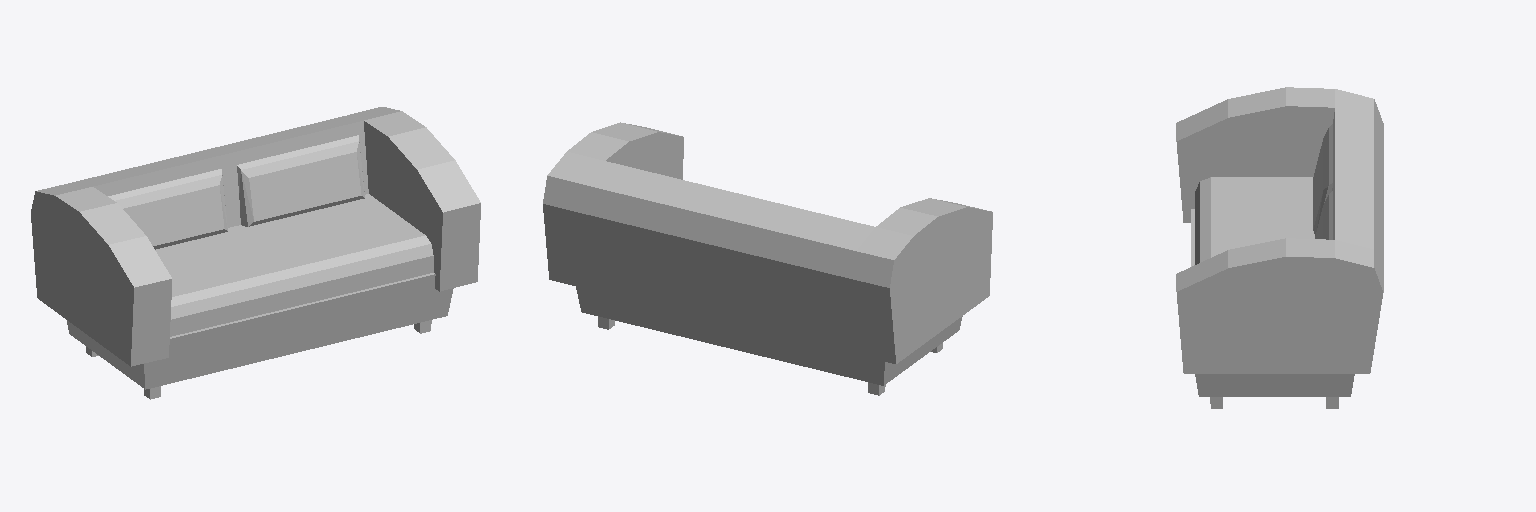
The model's file is Sofa_3.obj.
3 views of the same model, side by side, from view 1: azimuth 30°, elevation 25°; view 2: azimuth 150°, elevation 25°; view 3: azimuth 270°, elevation 25° (orthographic).
Visible parts, largest first — view 1: Sofa_3; view 2: Sofa_3; view 3: Sofa_3.
Boxes of the visible parts, box(x1,y1,x2,y2) form: Sofa_3: box(31, 107, 480, 399); Sofa_3: box(543, 122, 992, 395); Sofa_3: box(1176, 87, 1383, 408).
Size of the model in its own units: 1.8 by 0.8318 by 0.9284.